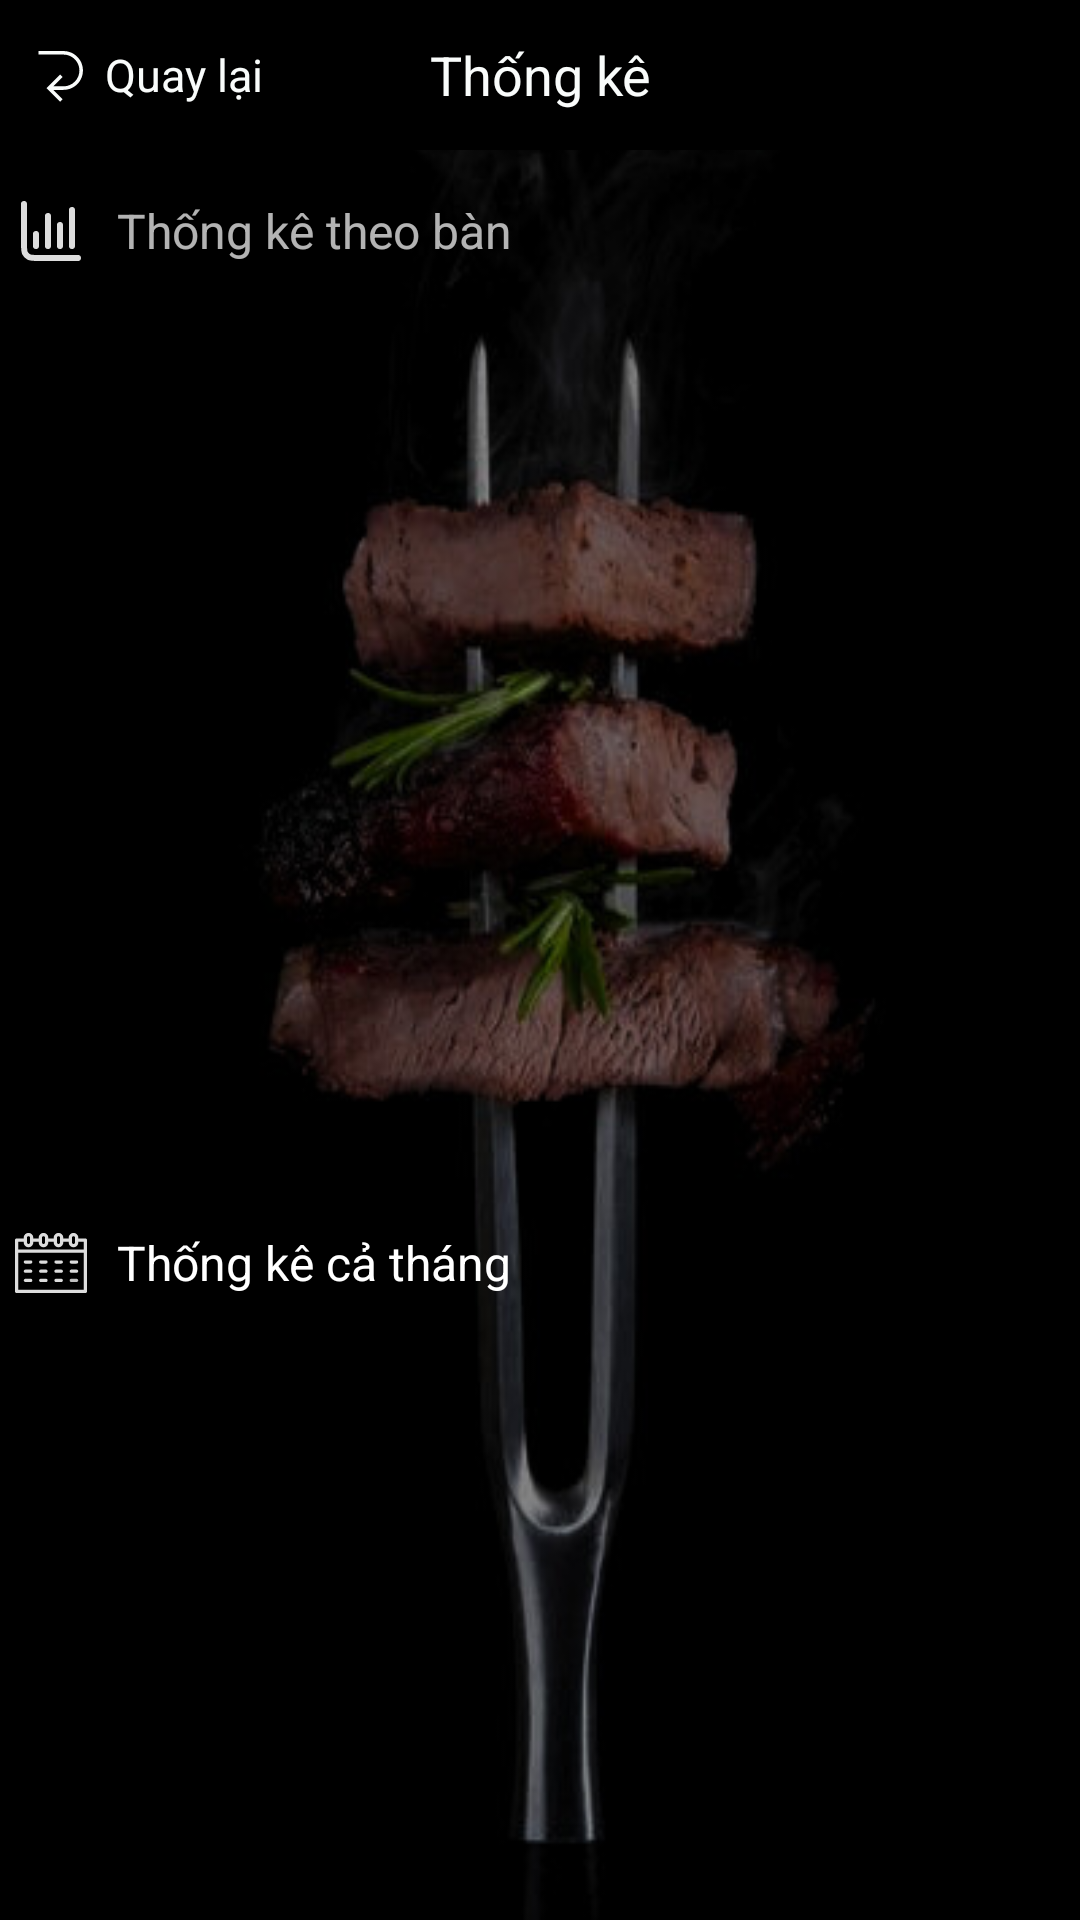

Icon bounding boxes for this 1080×1920 phone screenshot, format {"left": x1, "top": y1, "right": x2, "bottom": y2}:
back left: {"left": 38, "top": 51, "right": 83, "bottom": 102}
chart table: {"left": 21, "top": 201, "right": 81, "bottom": 261}
month: {"left": 15, "top": 1233, "right": 87, "bottom": 1293}
